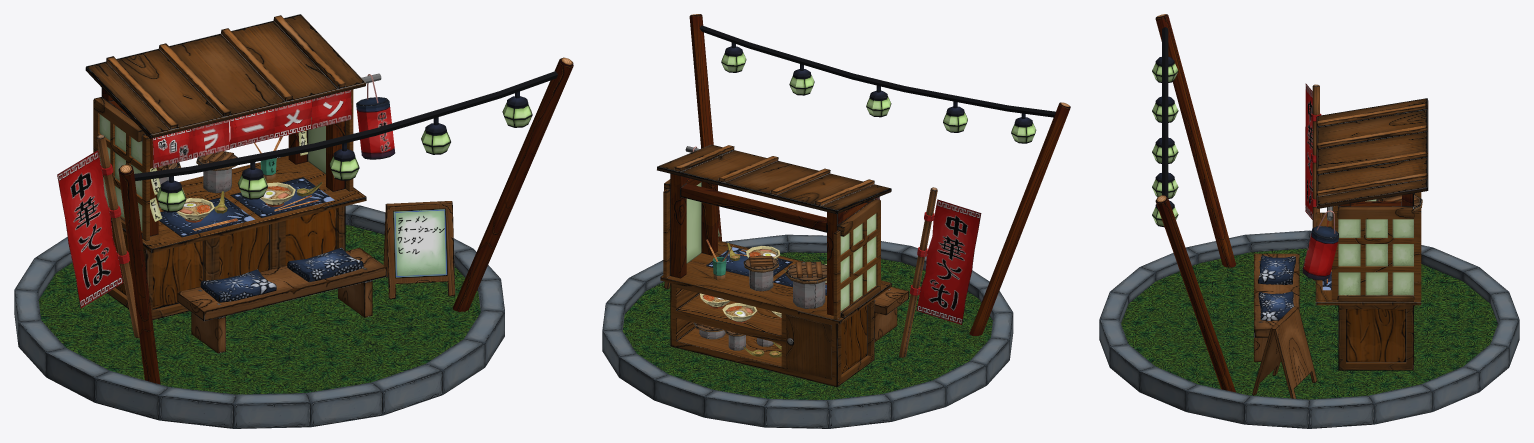
The model's file is Japanese Ramen Stall.fbx.
The picture shows the model from 3 angles, left to right: view 1: azimuth 30°, elevation 25°; view 2: azimuth 150°, elevation 25°; view 3: azimuth 270°, elevation 25°; orthographic projection. The views are drawn at different scales.
Parts seen in each view (by area): view 1: StallMesh; view 2: StallMesh; view 3: StallMesh.
Boxes of the visible parts, x1=… form: StallMesh: x1=14, y1=14, x2=573, y2=428; StallMesh: x1=602, y1=14, x2=1070, y2=428; StallMesh: x1=1099, y1=14, x2=1519, y2=428.
Size of the model in its own units: 33.4 by 19.41 by 31.48.
